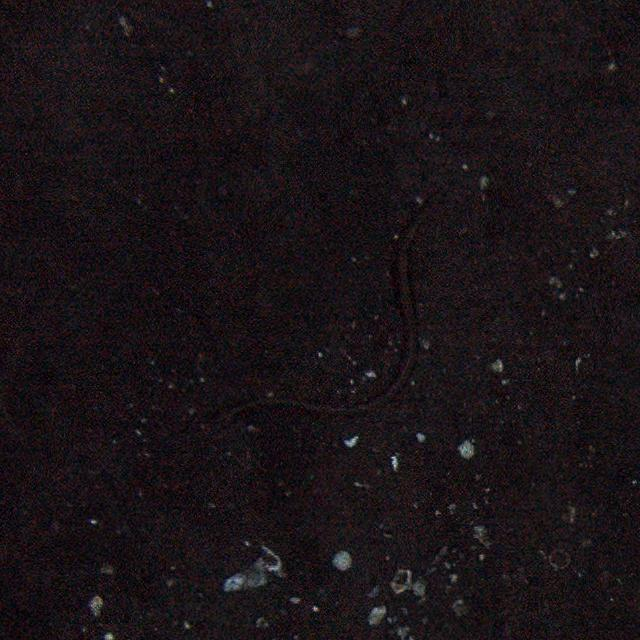eel: (237, 185, 442, 422)
